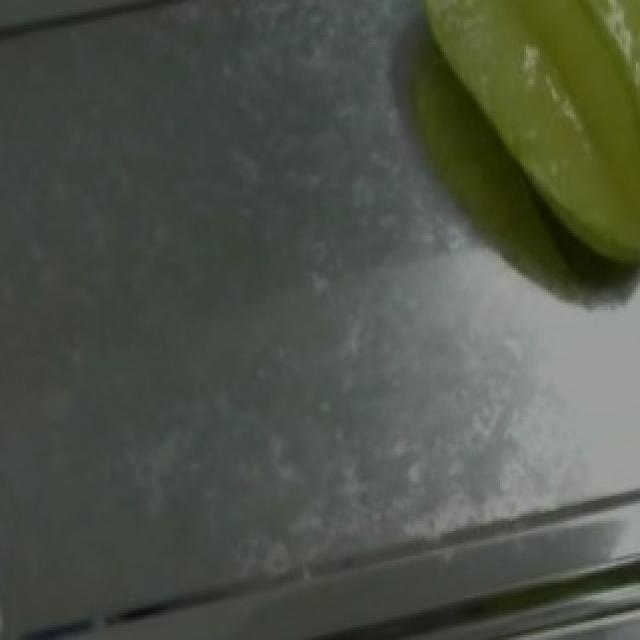fruit: (386, 0, 640, 298)
